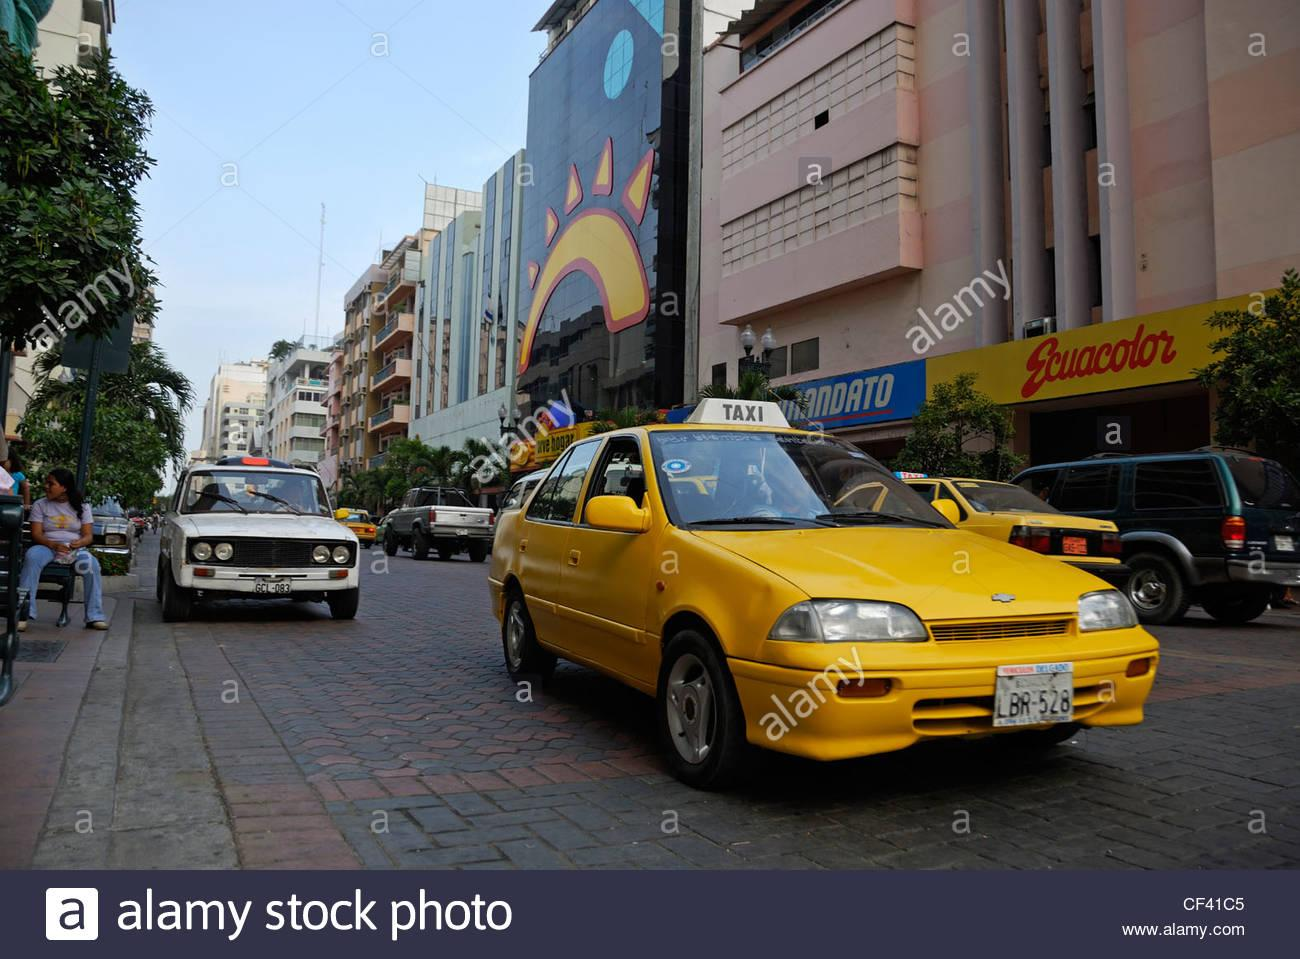taxi: (444, 411, 1170, 800)
